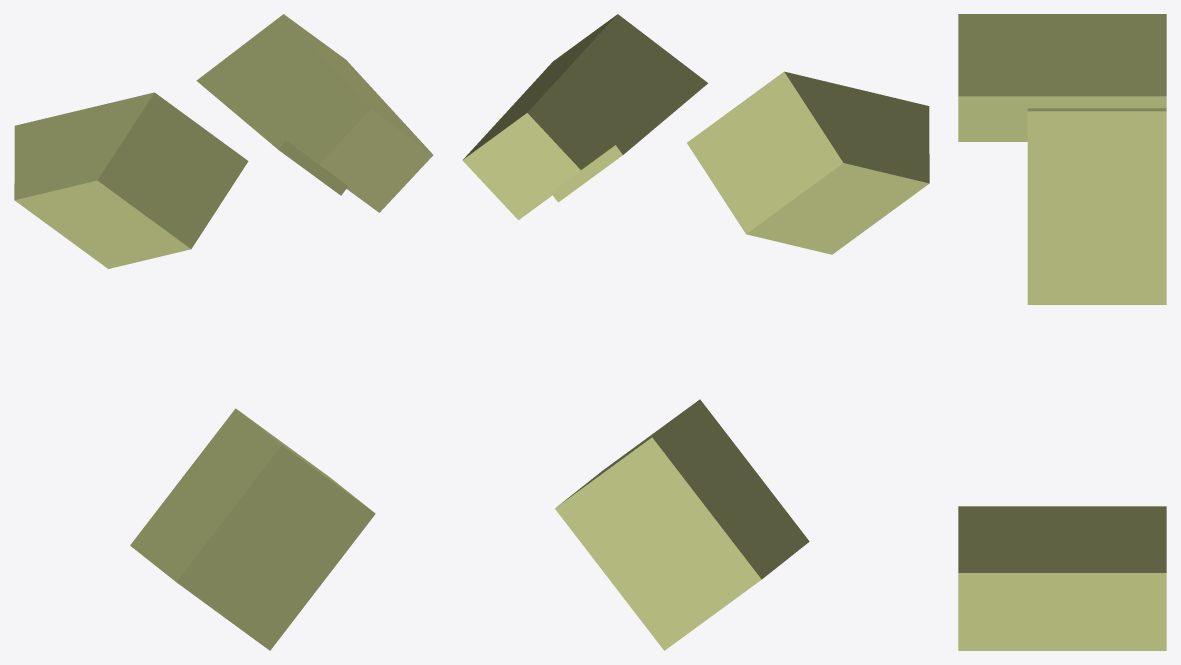
The picture shows the model from 3 angles, left to right: view 1: azimuth 30°, elevation 25°; view 2: azimuth 150°, elevation 25°; view 3: azimuth 270°, elevation 25°; orthographic projection. The views are drawn at different scales.
Parts seen in each view (by area): view 1: 0_1_2_0_3_3_0_1_3; view 2: 0_1_2_0_3_3_0_1_3; view 3: 0_1_2_0_3_3_0_1_3.
Boxes of the visible parts, <box> form: 0_1_2_0_3_3_0_1_3: <box>14,14,433,650</box>; 0_1_2_0_3_3_0_1_3: <box>462,14,929,650</box>; 0_1_2_0_3_3_0_1_3: <box>958,14,1166,650</box>.
Bounding box in the file's own units: 19.72 × 28.65 × 9.
